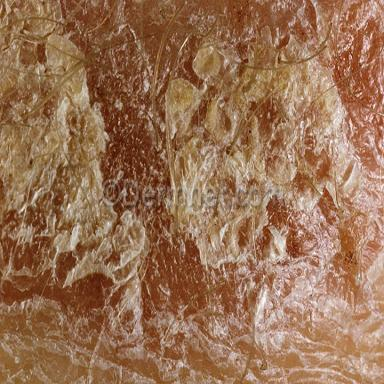Psoriasis: (1, 4, 382, 383)
